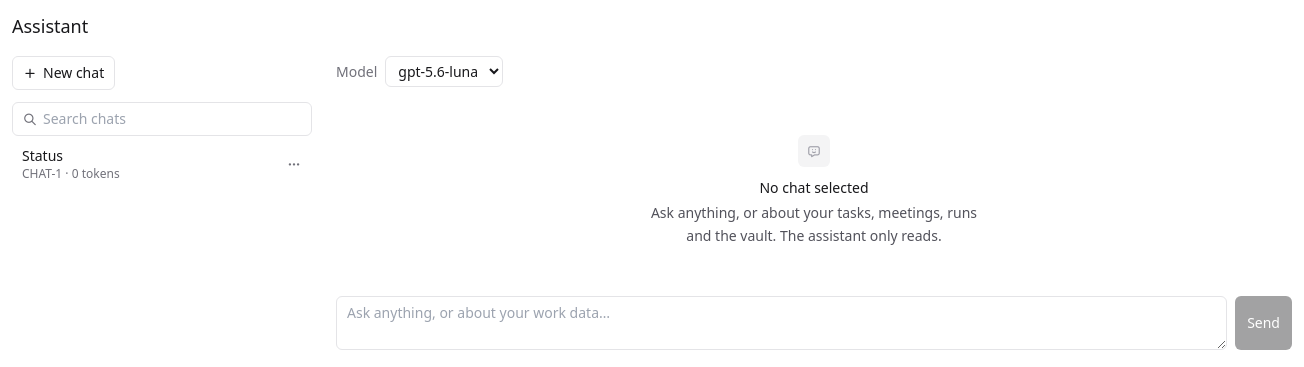
Test: markdown › AC-6: a GFM pipe table renders a <table>
Click the button "Status CHAT-1 · 0 tokens": (43, 156) [12,140,276,188]
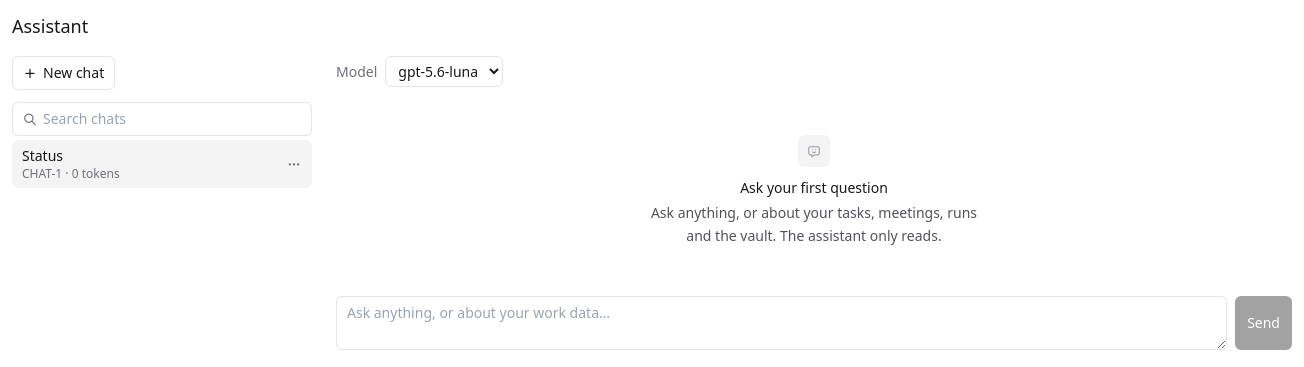
expect the text "Ask your first question" is shown: met, box [740,177,888,198]
In the text box named "Message": (782, 322) [336,296,1227,350], type "hi"
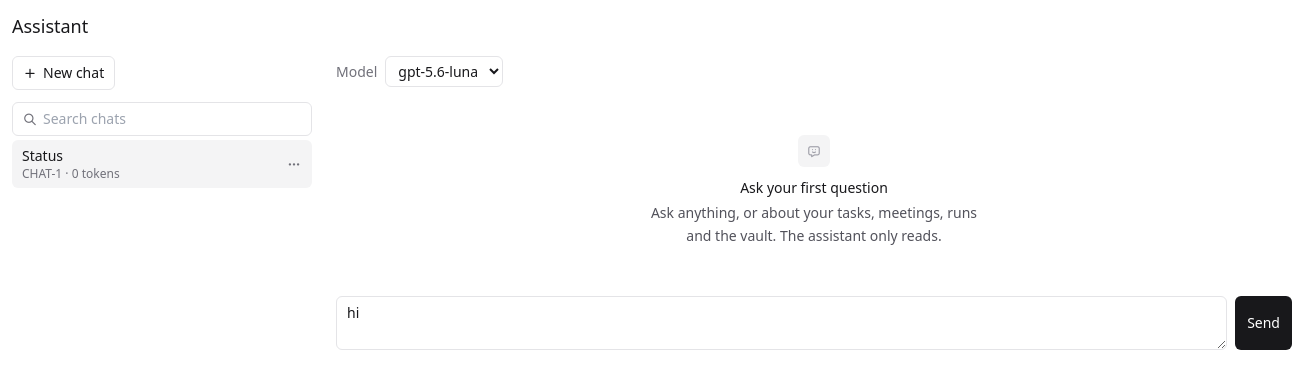
Click the button "Send": (1264, 322) [1235,296,1292,350]
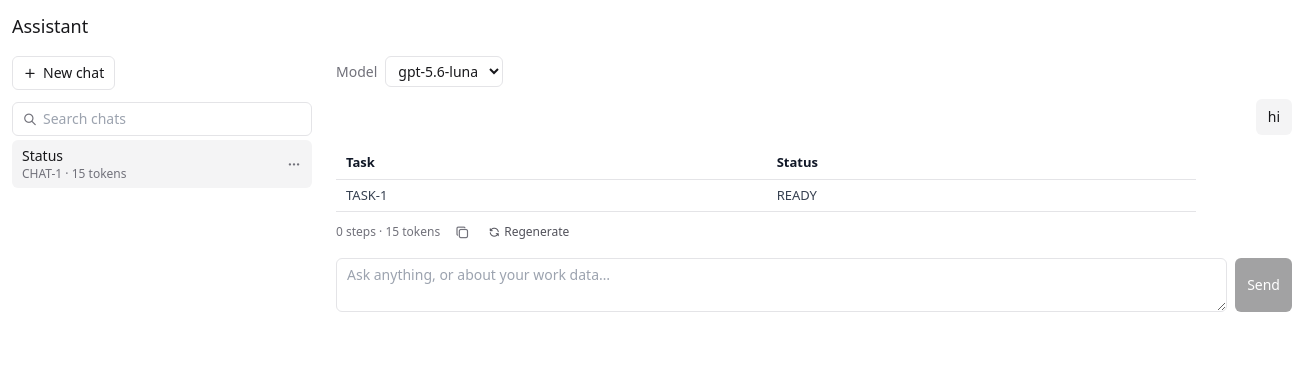
expect the table is shown: met, box [336,147,1196,212]
